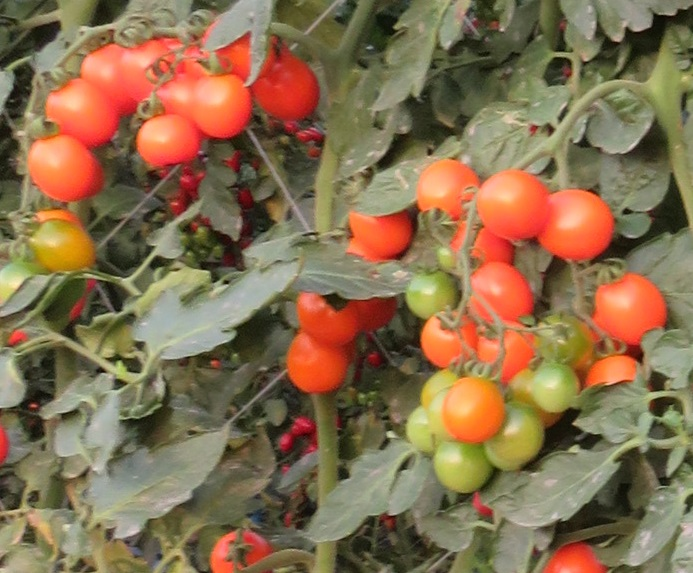green: (28, 221, 102, 280), (526, 310, 591, 370), (495, 400, 544, 473), (431, 443, 498, 496), (528, 362, 585, 413), (404, 269, 462, 317)
orange: (470, 167, 551, 244), (25, 134, 111, 202), (592, 273, 667, 349), (545, 187, 618, 261), (47, 74, 119, 147), (440, 374, 507, 447), (189, 74, 259, 139), (283, 337, 359, 396), (254, 54, 321, 120), (130, 115, 208, 171), (295, 290, 367, 347), (413, 157, 478, 218), (471, 268, 537, 328), (347, 202, 416, 255)
